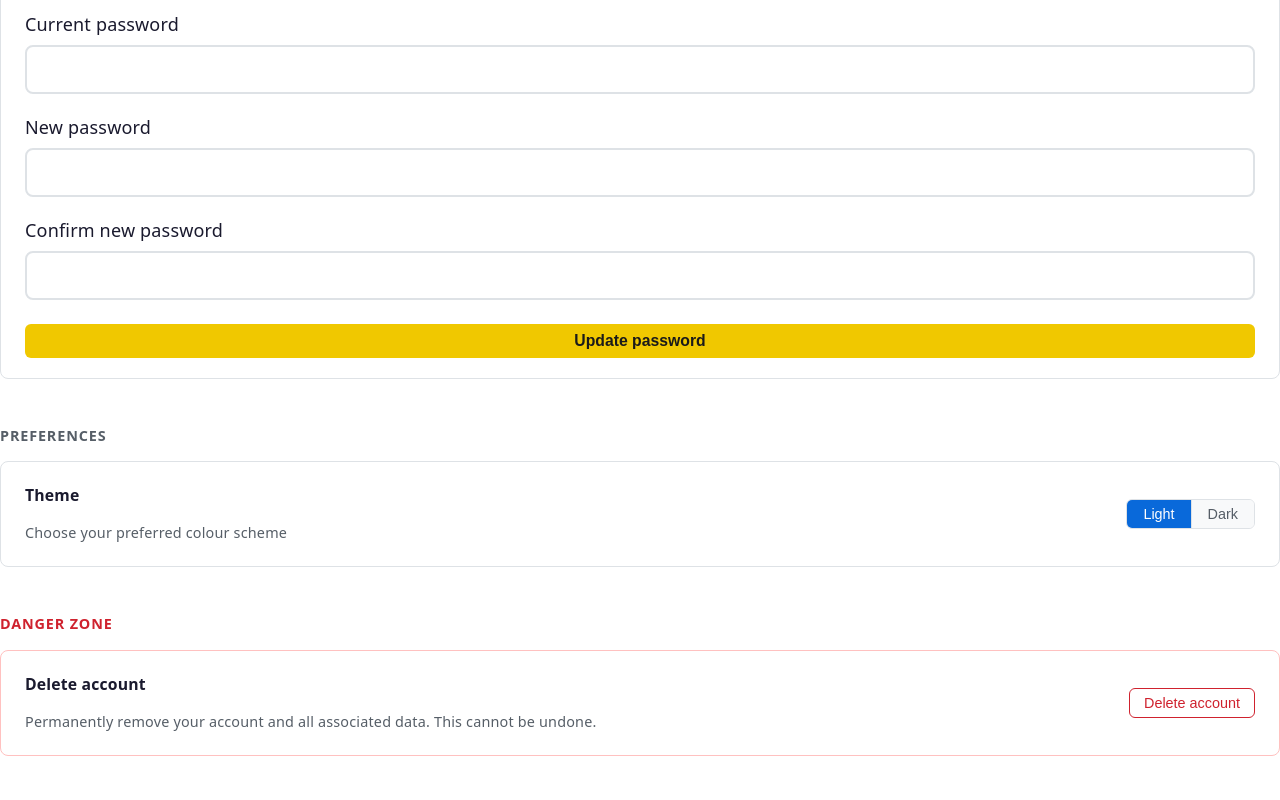
Test: SettingsPage › shows delete account modal when button is clicked
The width and height of the screenshot is (1280, 800).
(page scrolled)
Click the button "Delete account". click: (1192, 703)
box: x1=1129 y1=688 x2=1255 y2=718
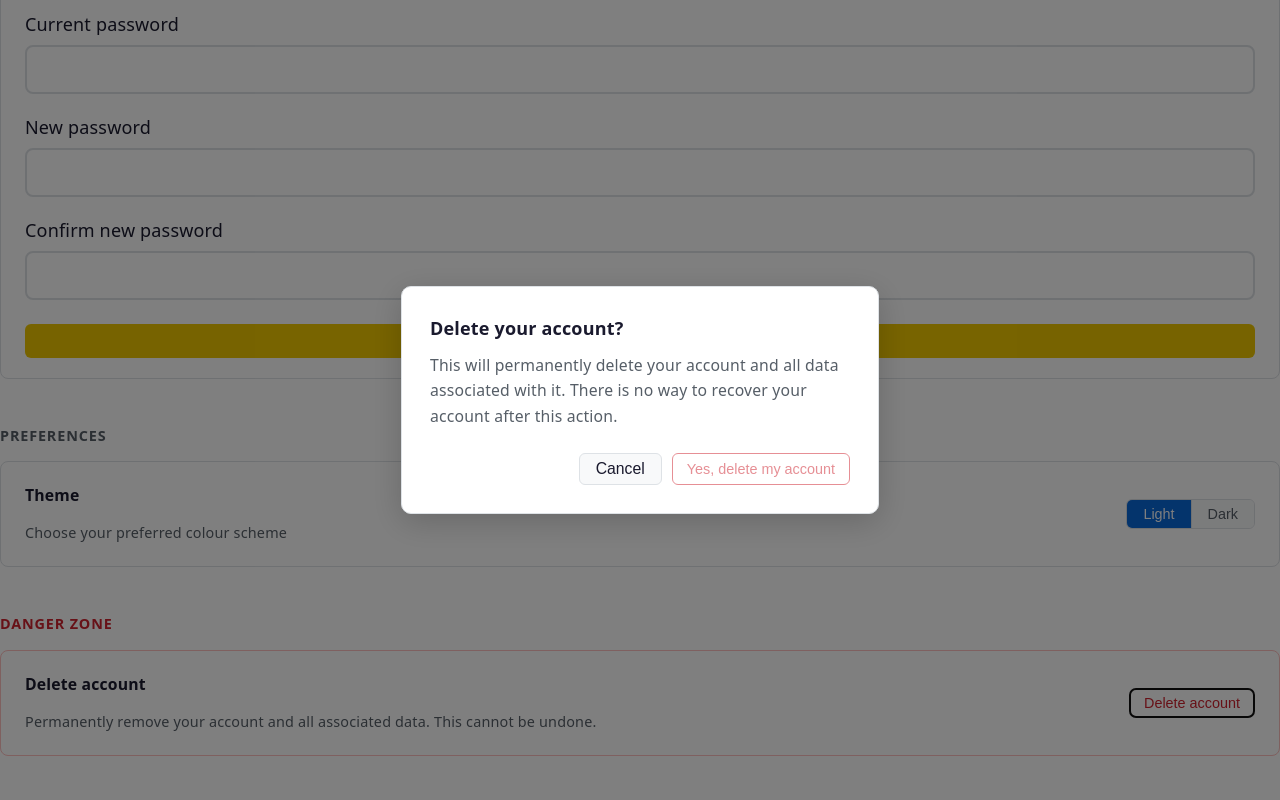
Check: the heading "Delete your account?" is shown, box x1=430 y1=316 x2=624 y2=340
